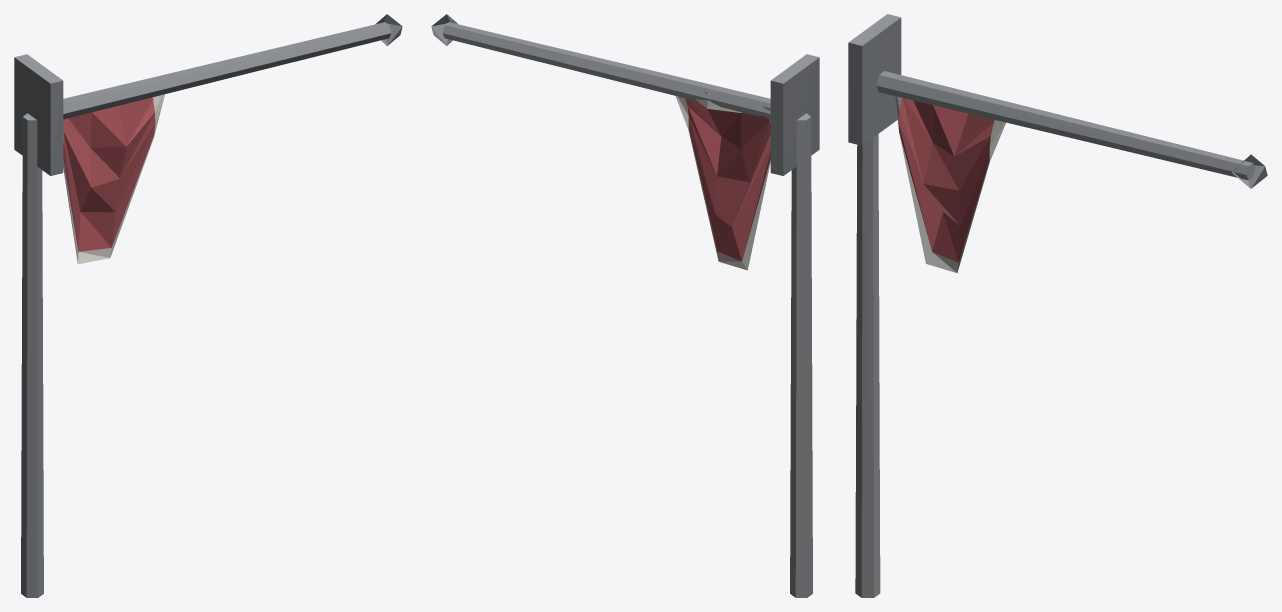
The model's file is flag.pennant.lingqi__pole.horizontal.big__armHang.glb.
3 renders of one model, left to right at view 1: azimuth 30°, elevation 25°; view 2: azimuth 150°, elevation 25°; view 3: azimuth 330°, elevation 25°, orthographic. The views are drawn at different scales.
Parts seen in each view (by area): view 1: flag.pennant.lingqi; view 2: flag.pennant.lingqi; view 3: flag.pennant.lingqi.
Boxes of the visible parts, left/top/right/bottom form: flag.pennant.lingqi: left=14, top=14, right=402, bottom=597; flag.pennant.lingqi: left=431, top=14, right=819, bottom=597; flag.pennant.lingqi: left=848, top=14, right=1267, bottom=597.
Bounding box in the file's own units: 2.66 × 3.51 × 0.44.
